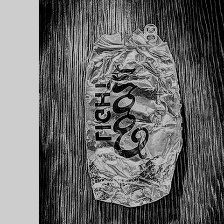can: (73, 19, 189, 214)
